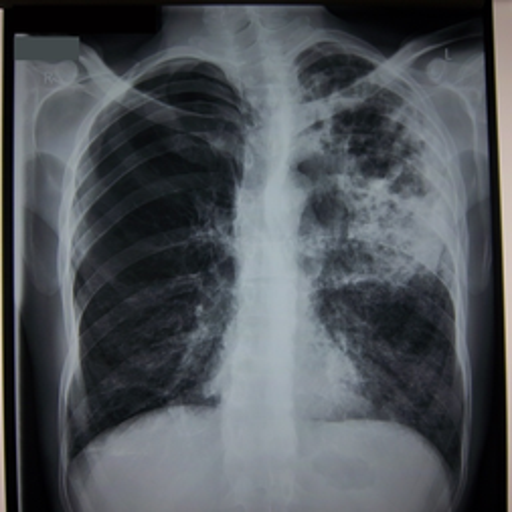TB: (318, 88, 462, 304)
